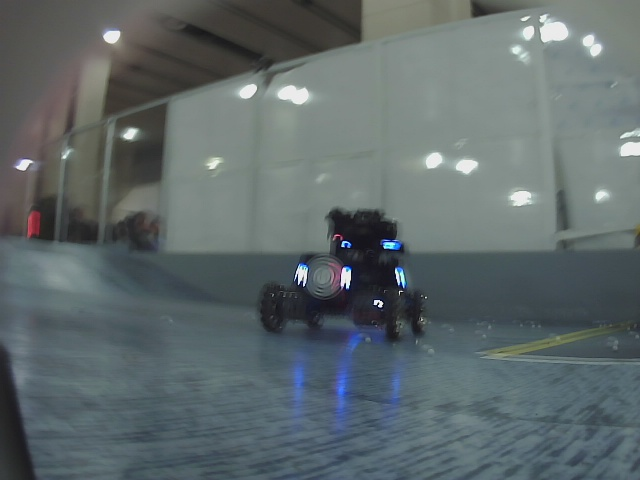lamp: (294, 263, 308, 288), (340, 264, 350, 289)
pair: (295, 264, 351, 290)
